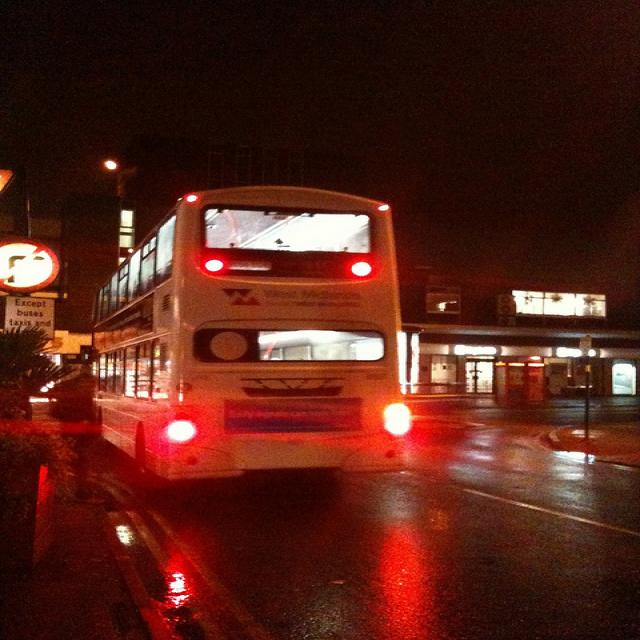Bus: (57, 200, 450, 508)
